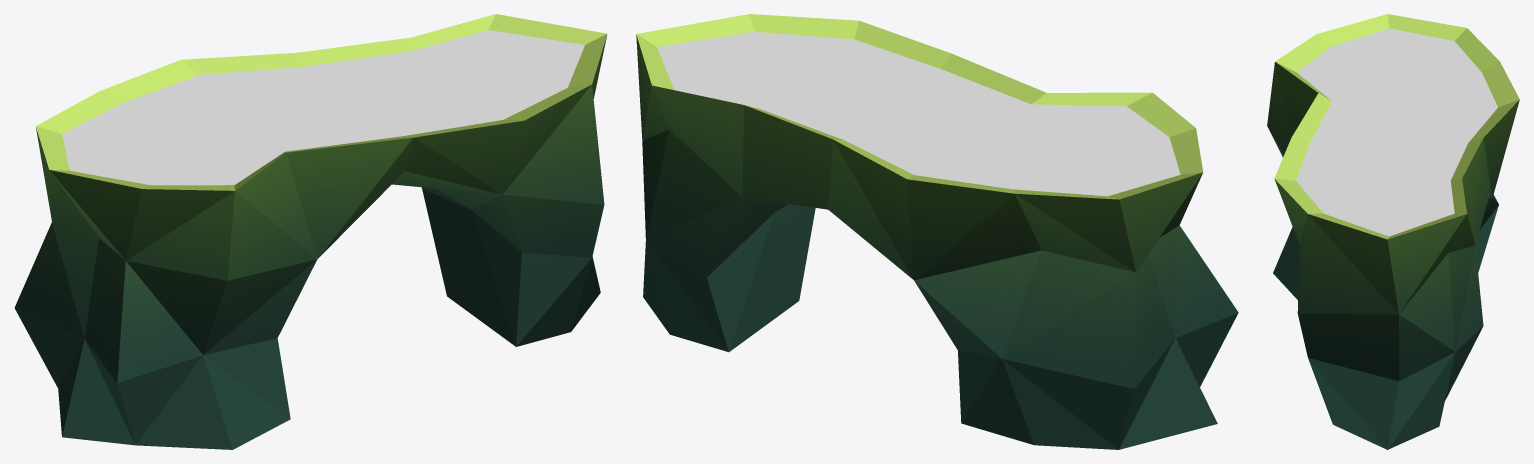
The model's file is MOD_PlatformV2_middenV2.fbx.
3 renders of one model, left to right at view 1: azimuth 30°, elevation 25°; view 2: azimuth 150°, elevation 25°; view 3: azimuth 270°, elevation 25°, orthographic. The views are drawn at different scales.
Parts seen in each view (by area): view 1: MOD_PlatformV2_laag; view 2: MOD_PlatformV2_laag; view 3: MOD_PlatformV2_laag.
Boxes of the visible parts, x1,y1,x2,y2 form: MOD_PlatformV2_laag: (14,14,607,449); MOD_PlatformV2_laag: (636,14,1238,449); MOD_PlatformV2_laag: (1267,14,1519,449).
Bounding box in the file's own units: 4.75 × 2.09 × 2.25.
Materials: 3 (1 with a texture image).
